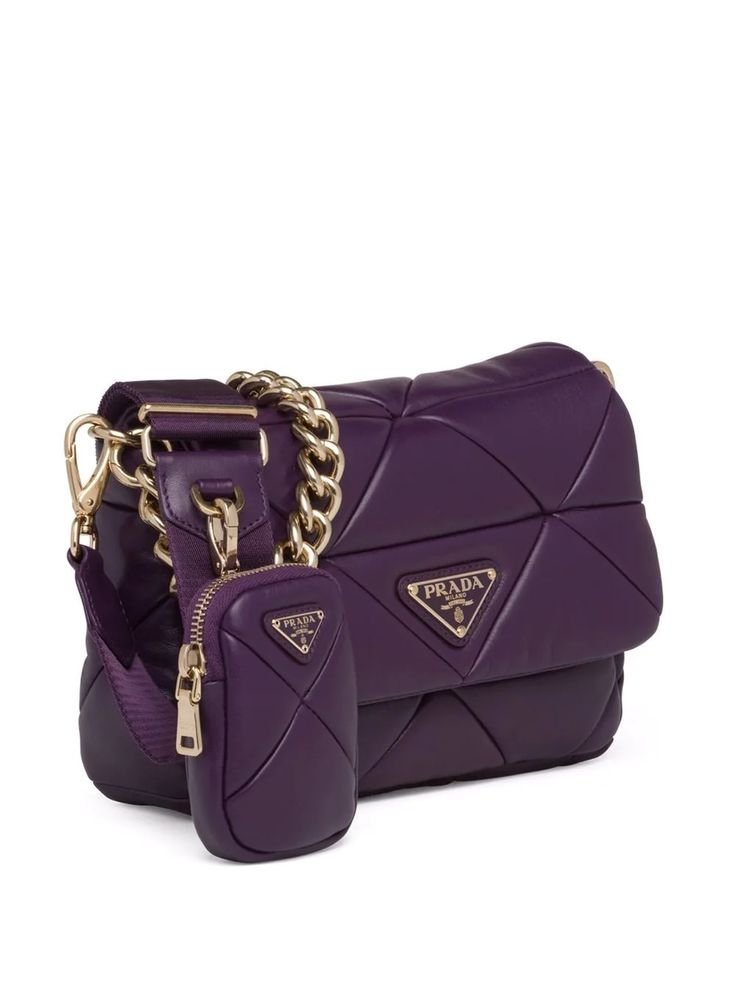nylon: (73, 342, 665, 864)
